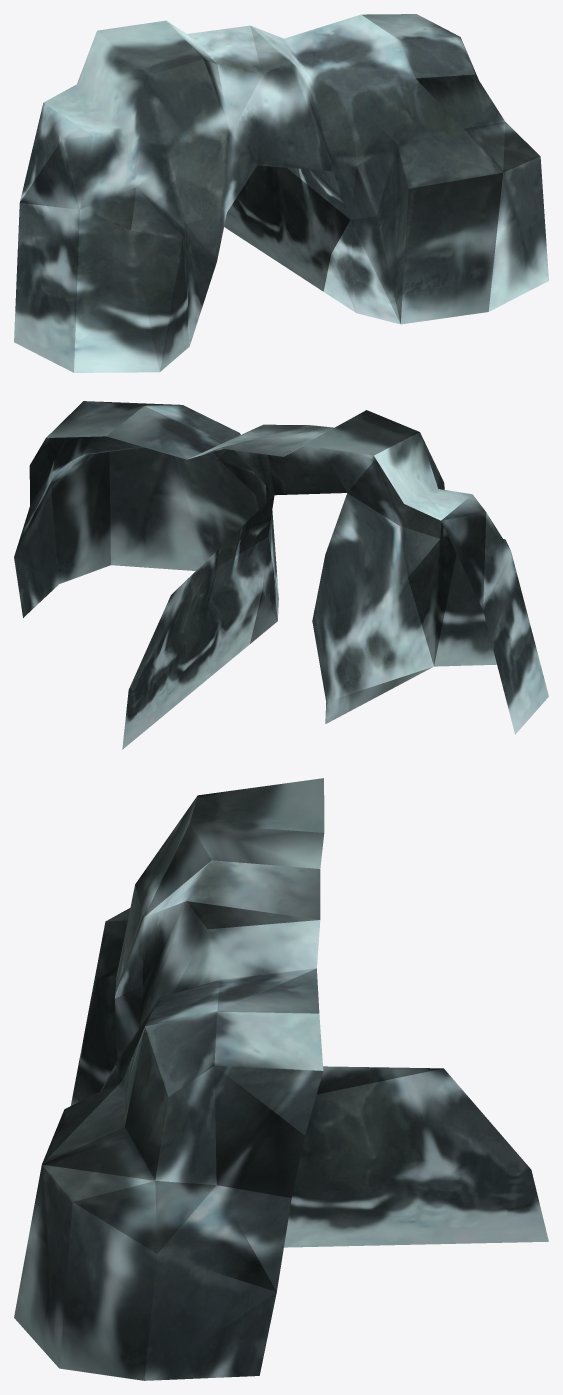
File: common_yewai_shandong01.FBX
3 views of the same model, one above another, from view 1: azimuth 30°, elevation 25°; view 2: azimuth 150°, elevation 25°; view 3: azimuth 270°, elevation 25° (orthographic). The views are drawn at different scales.
Visible parts, largest first — view 1: common_yewai_shandong01; view 2: common_yewai_shandong01; view 3: common_yewai_shandong01.
Boxes of the visible parts, x1,y1,x2,y2 form: common_yewai_shandong01: (14, 14, 548, 372); common_yewai_shandong01: (14, 401, 548, 749); common_yewai_shandong01: (14, 778, 548, 1380).
Size of the model in its own units: 17.59 by 12.43 by 9.16.
